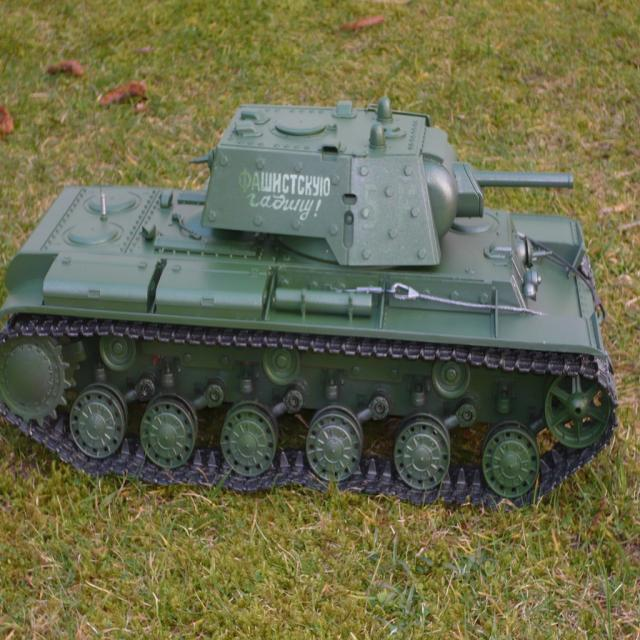tank: (0, 100, 619, 501)
